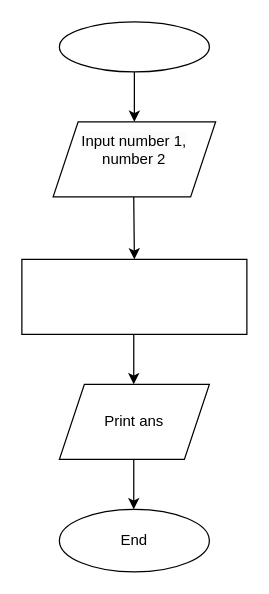
This 269x594 diagram has some shape labels left out. Here are the shapes that lost their labels. From the top down, the centre of each, then its label:
At (x=133, y=46): "Start".
At (x=134, y=296): "Answer=number1+number2".
